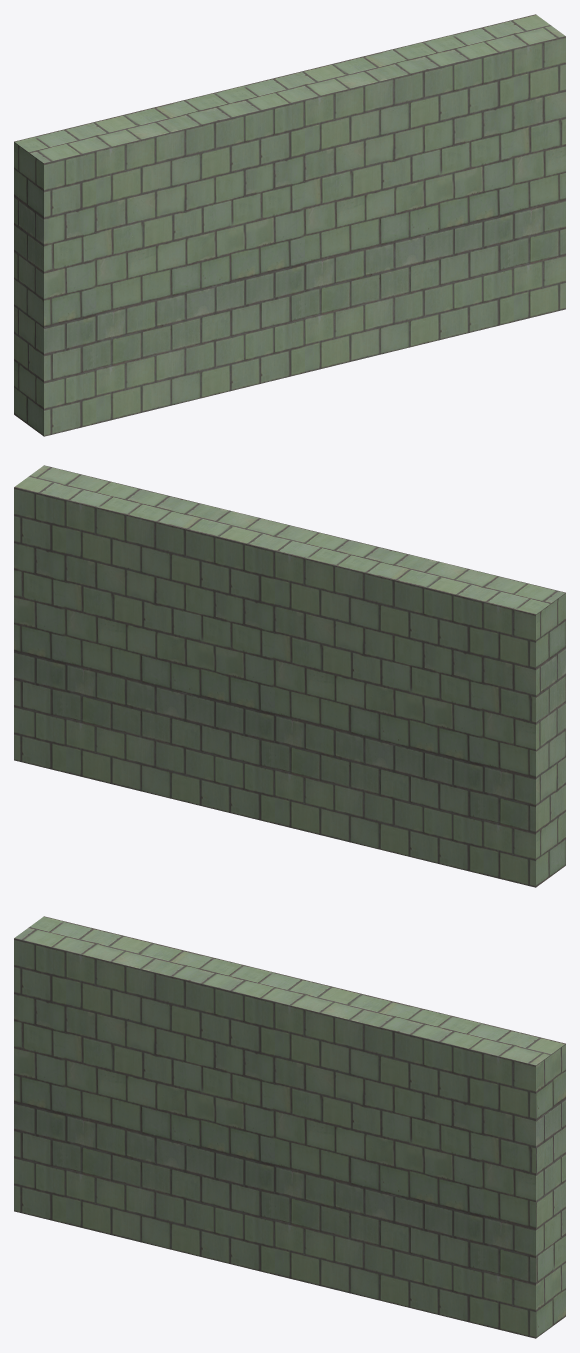
File: wall.obj
The picture shows the model from 3 angles, top to bottom: view 1: azimuth 30°, elevation 25°; view 2: azimuth 150°, elevation 25°; view 3: azimuth 330°, elevation 25°; orthographic projection.
Visible parts, largest first — view 1: Wall, Wall (2), Wall (1); view 2: Wall, Wall (2), Wall (1); view 3: Wall, Wall (1), Wall (2).
Part boxes in pixels (bbox=[...]): Wall: bbox=[66, 27, 513, 423]; Wall (2): bbox=[14, 129, 96, 436]; Wall (1): bbox=[484, 14, 565, 321]; Wall: bbox=[66, 478, 513, 874]; Wall (2): bbox=[483, 580, 565, 887]; Wall (1): bbox=[14, 465, 95, 772]; Wall: bbox=[66, 929, 513, 1325]; Wall (1): bbox=[483, 1031, 565, 1338]; Wall (2): bbox=[14, 916, 95, 1223].
Size of the model in its own units: 10 by 5 by 1.
Materials: 1 (1 with a texture image).
